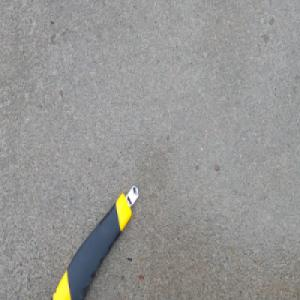Cutter: (48, 181, 139, 300)
